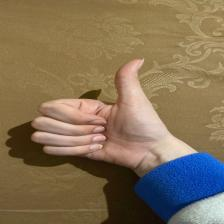five: (27, 57, 187, 164)
